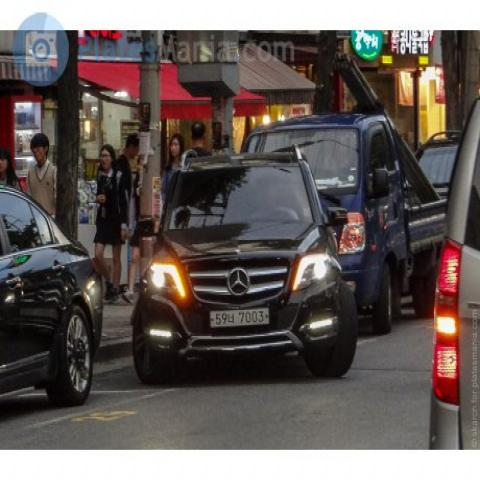LP: (203, 304, 274, 334)
